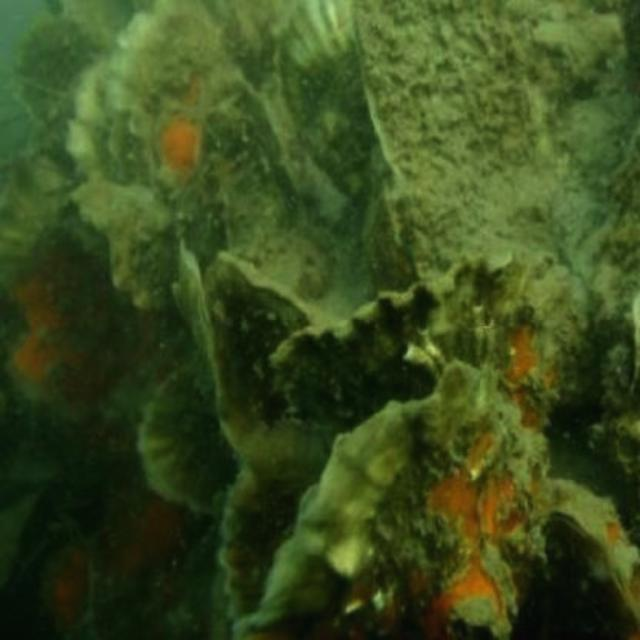Oyster-Closed: (354, 0, 640, 416), (256, 377, 552, 640), (76, 0, 301, 262), (268, 261, 561, 441)
